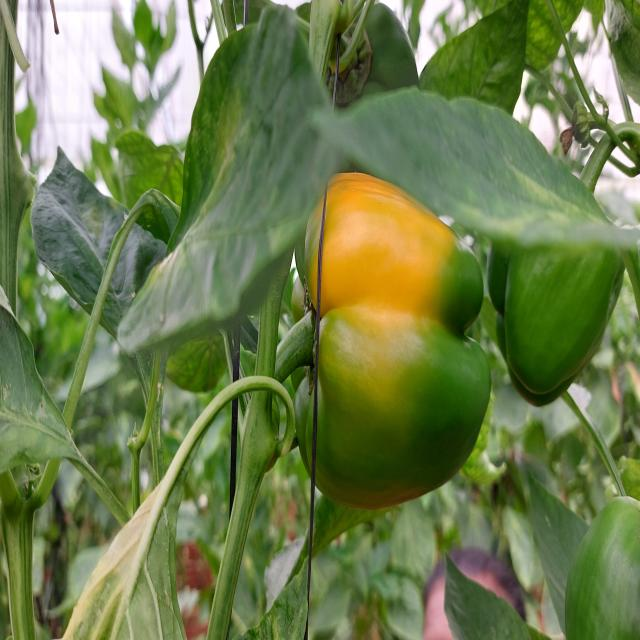Green--Not-ready-to-harvest: (512, 162, 612, 374)
GreenishYellow--Can-be-Harvested: (294, 182, 502, 504)
